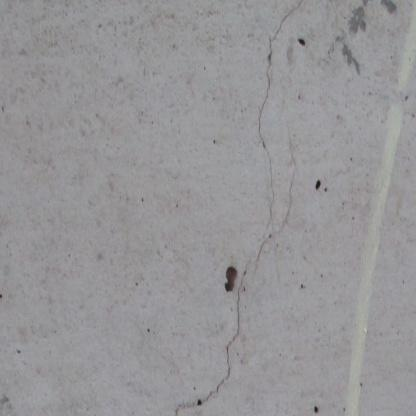Cracks: (169, 0, 321, 416)
